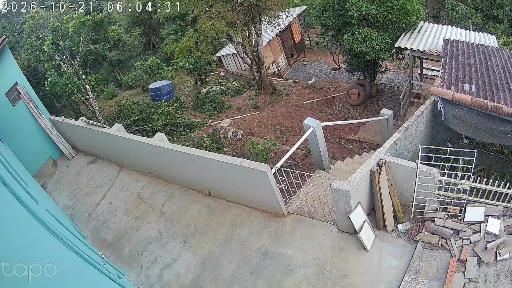galinha: (324, 96, 336, 107)
galo: (307, 76, 316, 89)
